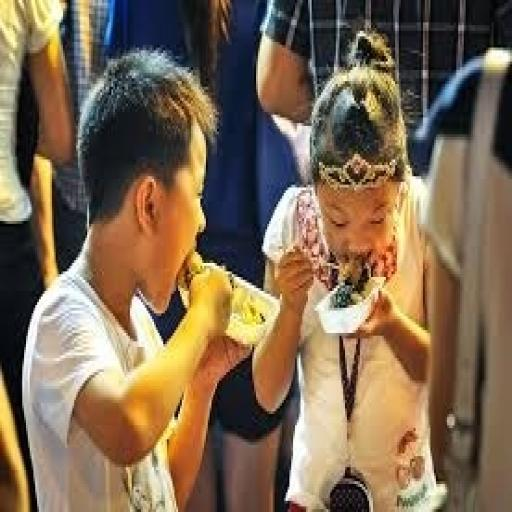eating: (20, 48, 250, 509), (250, 28, 462, 509)
